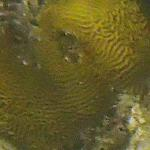alive: (3, 3, 147, 148)
